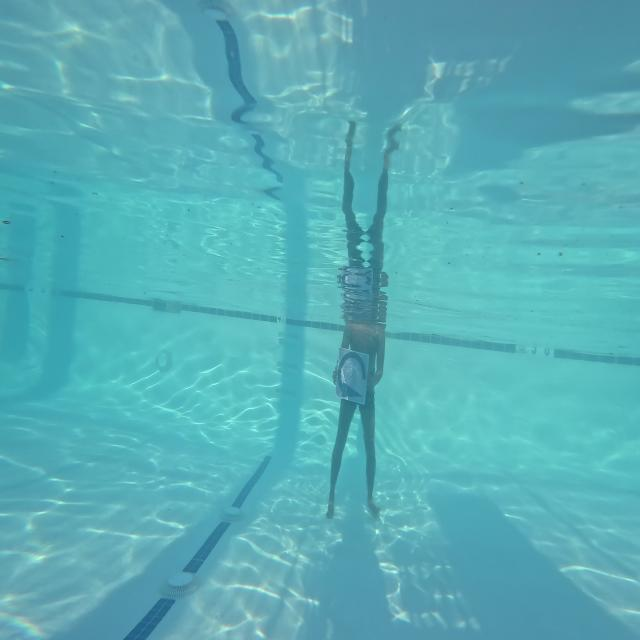blue_side: (332, 343, 375, 416)
